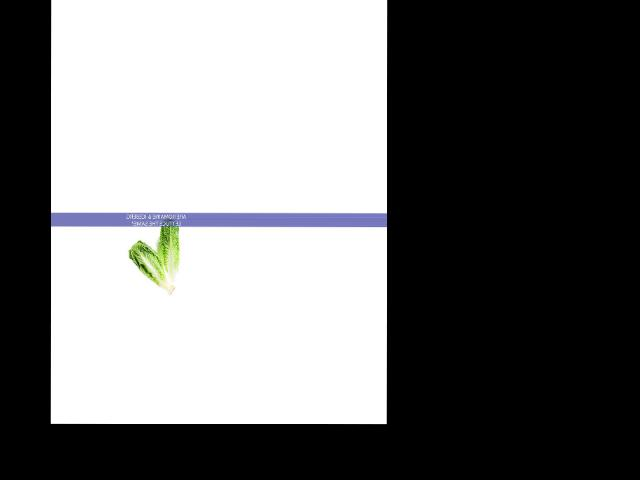lettuce: (130, 237, 174, 302)
